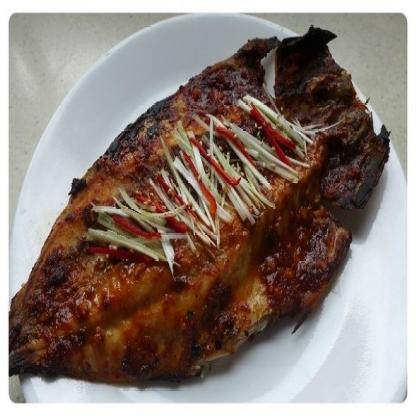Peixe: (0, 6, 396, 416)
